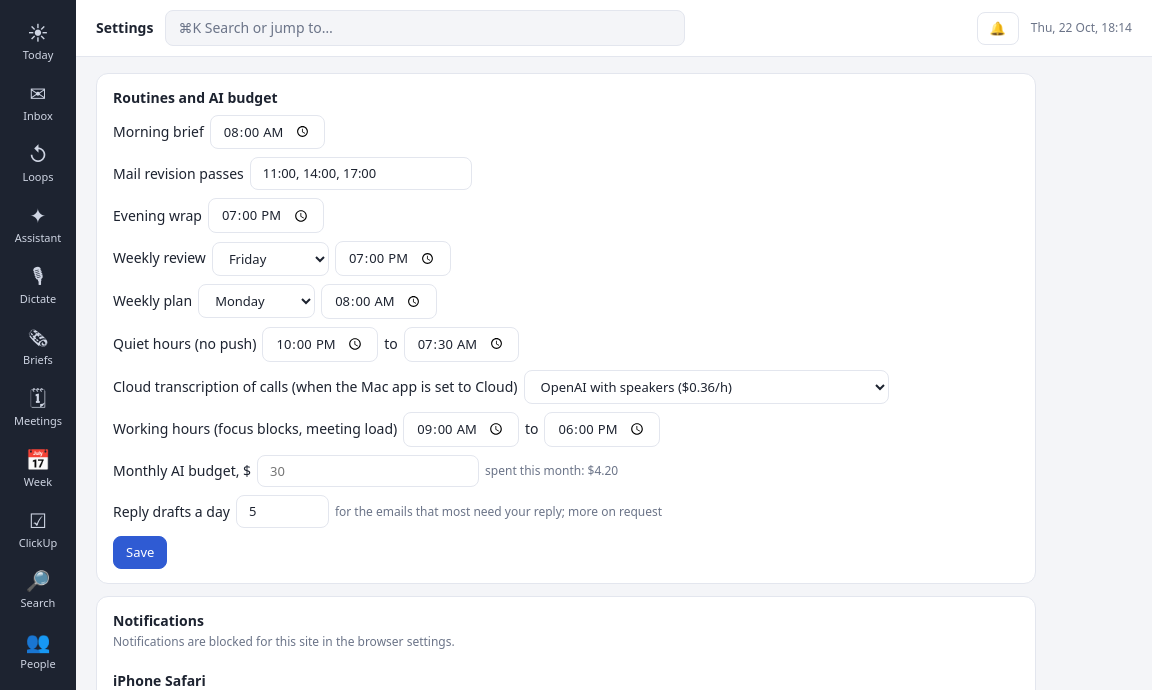
server validation errors are shown
What coordinates should you click on to do the following:
click the button "Save"
I would click on:
 (140, 553)
Its box is [113, 536, 167, 569].
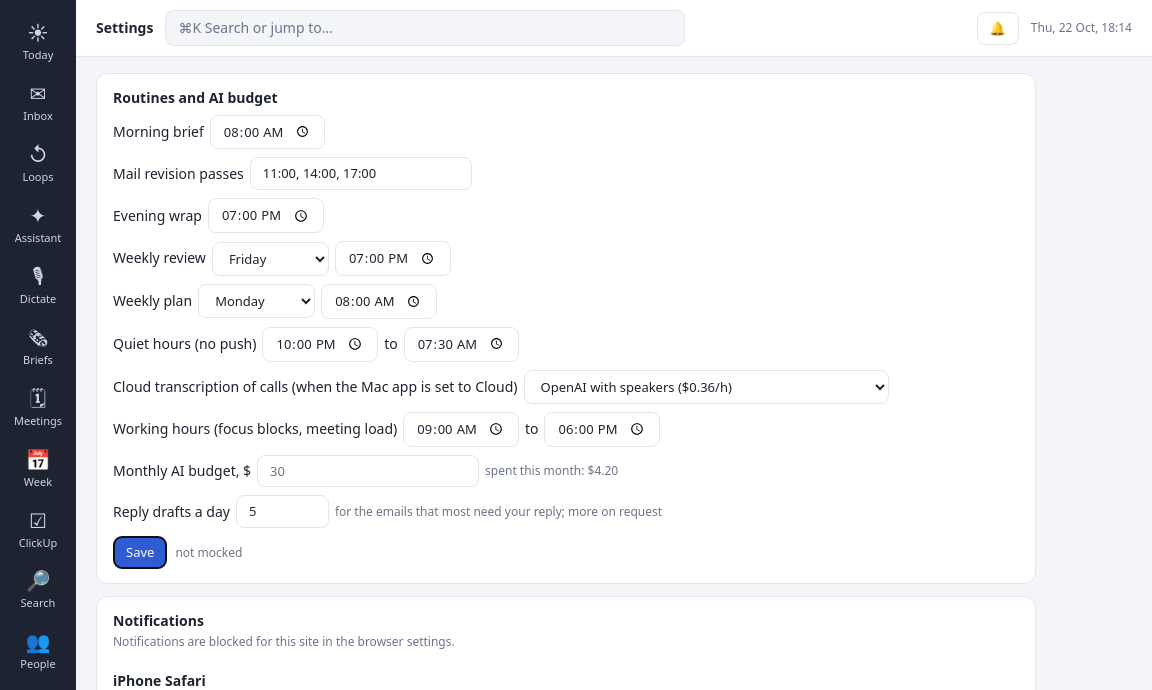
Expected: the message reads "not mocked", [175, 544, 242, 561]
